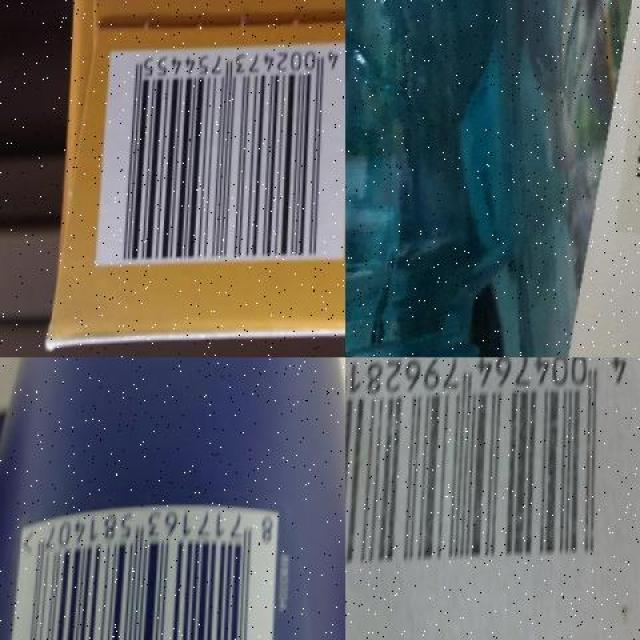Barcode: (345, 357, 640, 587), (99, 45, 345, 272), (5, 502, 281, 640)
